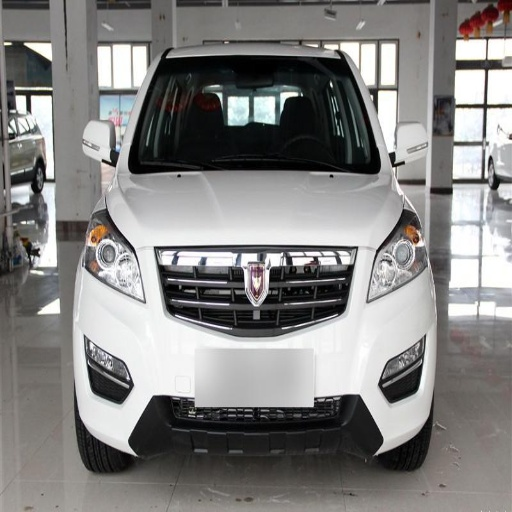front_bumper: (78, 247, 432, 454)
front_right_light: (83, 212, 145, 301)
hood: (107, 168, 404, 247)
